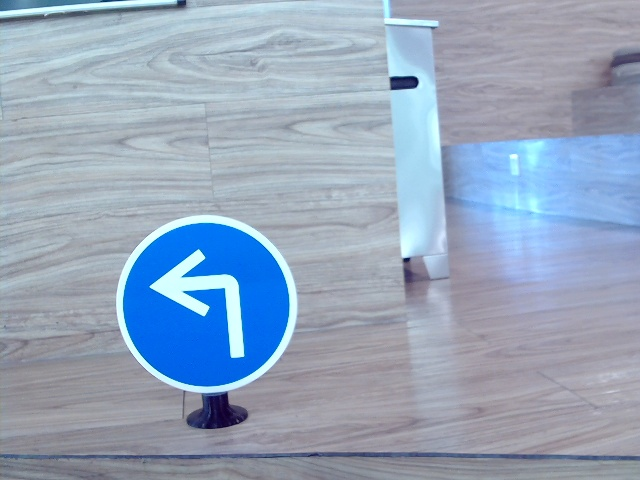turn_left: (148, 248, 259, 358)
